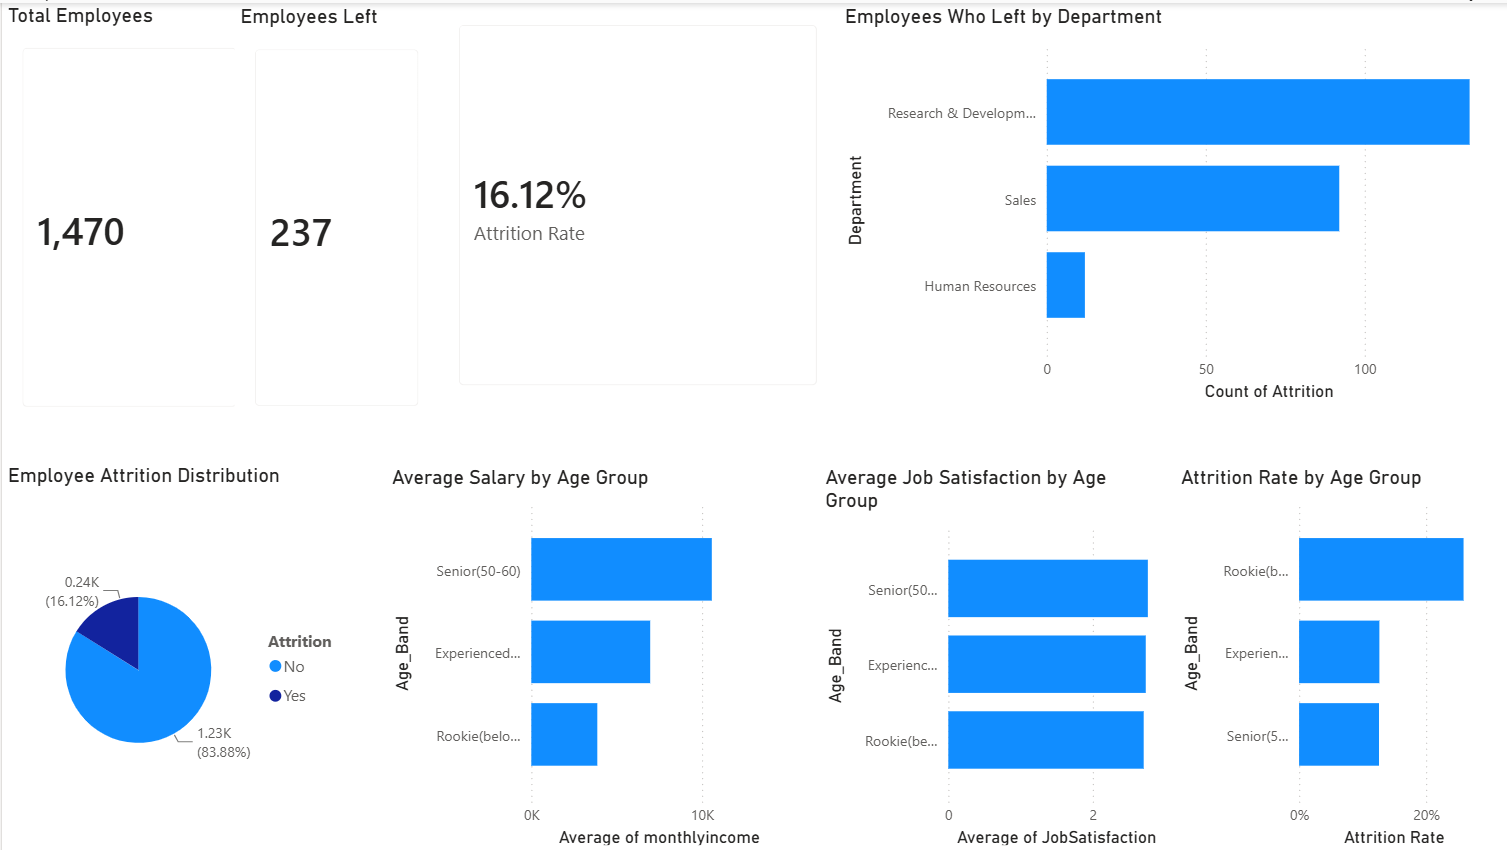

The dashboard page shown, as its layout file describes it:
{"tool":"powerbi","page":{"name":"Page 1","canvas":[1280,720],"ordinal":0},"visuals":[{"type":"pieChart","title":"Employee Attrition Distribution","fields":{"Category":["employee_attrition_analysis.Attrition"],"Y":["CountNonNull(employee_attrition_analysis.Attrition)"],"Series":["employee_attrition_analysis.Attrition"]},"box":[0,391.2,301.8,329.2],"z":0},{"type":"cardVisual","title":"Total Employees","fields":{"Data":["CountNonNull(employee_attrition_analysis.Attrition)"]},"box":[0,0,216.6,359.9],"z":1000},{"type":"cardVisual","title":"Employees Left","fields":{"Data":["CountNonNull(employee_attrition_analysis.Attrition)"]},"box":[196.7,1.5,173.9,358.4],"z":2000},{"type":"cardVisual","fields":{"Data":["employee_attrition_analysis.Attrition Rate"]},"box":[370.6,1.5,338.6,340.1],"z":4000},{"type":"clusteredBarChart","title":"Average Salary by Age Group","fields":{"Category":["employee_attrition_analysis.Age_Band"],"Y":["Avg(employee_attrition_analysis.monthlyincome)"]},"box":[326.4,391.9,355.3,327.9],"z":5000},{"type":"clusteredBarChart","title":"Average Job Satisfaction by Age Group","fields":{"Category":["employee_attrition_analysis.Age_Band"],"Y":["Avg(employee_attrition_analysis.JobSatisfaction)"]},"box":[693.9,391.9,302,327.9],"z":6000},{"type":"clusteredBarChart","title":"Attrition Rate by Age Group","fields":{"Category":["employee_attrition_analysis.Age_Band"],"Y":["employee_attrition_analysis.Attrition Rate"]},"box":[995.8,391.9,283.7,327.9],"z":7001},{"type":"clusteredBarChart","title":"Employees Who Left by Department","fields":{"Category":["employee_attrition_analysis.Department"],"Y":["CountNonNull(employee_attrition_analysis.Attrition)"]},"box":[710.7,1.5,568.8,340.1],"z":7002}]}

Visuals, with their boxes in screenshot pixels (x1, y1, x2, y2), scaled from the page's 1280x720 canvas onto the 1507x850 screenshot:
"Employee Attrition Distribution" pieChart: x1=0 y1=462 x2=355 y2=849
"Total Employees" cardVisual: x1=0 y1=0 x2=255 y2=425
"Employees Left" cardVisual: x1=232 y1=2 x2=436 y2=425
cardVisual - employee_attrition_analysis.Attrition Rate: x1=436 y1=2 x2=835 y2=403
"Average Salary by Age Group" clusteredBarChart: x1=384 y1=463 x2=803 y2=849
"Average Job Satisfaction by Age Group" clusteredBarChart: x1=817 y1=463 x2=1173 y2=849
"Attrition Rate by Age Group" clusteredBarChart: x1=1172 y1=463 x2=1506 y2=849
"Employees Who Left by Department" clusteredBarChart: x1=837 y1=2 x2=1506 y2=403
